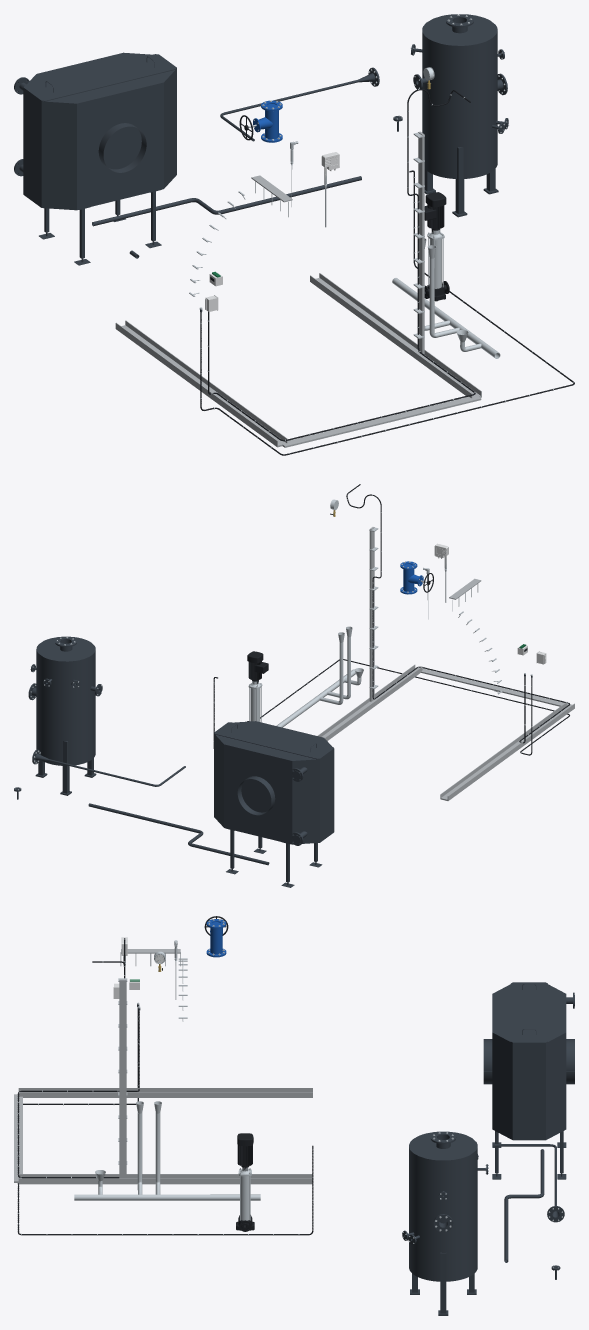
File: s4000-3-CaRI3DVt.glb
3 views of the same model, one above another, from view 1: azimuth 30°, elevation 25°; view 2: azimuth 150°, elevation 25°; view 3: azimuth 270°, elevation 25° (orthographic). The views are drawn at different scales.
Parts seen in each view (by area): view 1: separator_bdv60_5 / dark, EQS2-5000 CAD 0, EQS2-5000 CAD 3, cables / zinc, EQS2-5000 CAD 1, local_open_drains / steel, wiring_pressure_switch_1 / black, wiring_pump_2 / black, bottom_discharge / dark, steam_manual / blue, tds_to_fv / dark, pump_1 CAD solid 15 (+1 smaller); view 2: separator_bdv60_5 / dark, EQS2-5000 CAD 0, EQS2-5000 CAD 3, cables / zinc, EQS2-5000 CAD 2, local_open_drains / steel, wiring_pressure_switch_1 / black, wiring_pump_2 / black, bottom_discharge / dark, steam_manual / blue, tds_to_fv / dark; view 3: EQS2-5000 CAD 3, separator_bdv60_5 / dark, cables / zinc, local_open_drains / steel, EQS2-5000 CAD 0, wiring_pump_2 / black, wiring_pressure_switch_1 / black, bottom_discharge / dark, tds_to_fv / dark, steam_manual / blue, pump_1 CAD solid 15.
Boxes of the visible parts, x1,y1,x2,y2 form: separator_bdv60_5 / dark: [411, 14, 508, 217]; EQS2-5000 CAD 0: [39, 82, 163, 265]; EQS2-5000 CAD 3: [23, 52, 176, 207]; cables / zinc: [115, 131, 481, 447]; EQS2-5000 CAD 1: [41, 101, 76, 210]; local_open_drains / steel: [392, 238, 500, 358]; wiring_pressure_switch_1 / black: [208, 89, 475, 441]; wiring_pump_2 / black: [200, 170, 574, 455]; bottom_discharge / dark: [92, 176, 361, 226]; steam_manual / blue: [253, 100, 282, 142]; tds_to_fv / dark: [220, 67, 379, 141]; pump_1 CAD solid 15: [424, 192, 446, 229]; separator_bdv60_5 / dark: [28, 636, 102, 795]; EQS2-5000 CAD 0: [224, 744, 322, 887]; EQS2-5000 CAD 3: [214, 721, 334, 842]; cables / zinc: [317, 527, 574, 800]; EQS2-5000 CAD 2: [290, 759, 319, 845]; local_open_drains / steel: [276, 626, 363, 727]; wiring_pressure_switch_1 / black: [346, 484, 569, 743]; wiring_pump_2 / black: [213, 659, 569, 755]; bottom_discharge / dark: [88, 803, 269, 865]; steam_manual / blue: [400, 561, 423, 594]; tds_to_fv / dark: [32, 749, 185, 786]; EQS2-5000 CAD 3: [492, 982, 566, 1140]; separator_bdv60_5 / dark: [402, 1131, 487, 1315]; cables / zinc: [14, 949, 312, 1184]; local_open_drains / steel: [74, 1101, 260, 1200]; EQS2-5000 CAD 0: [483, 1039, 574, 1179]; wiring_pump_2 / black: [17, 1007, 313, 1235]; wiring_pressure_switch_1 / black: [17, 938, 139, 1178]; bottom_discharge / dark: [504, 1149, 544, 1262]; tds_to_fv / dark: [493, 1144, 564, 1222]; steam_manual / blue: [206, 919, 226, 957]; pump_1 CAD solid 15: [237, 1133, 253, 1166].
Size of the model in its own units: 5.56 by 3.24 by 6.23.
